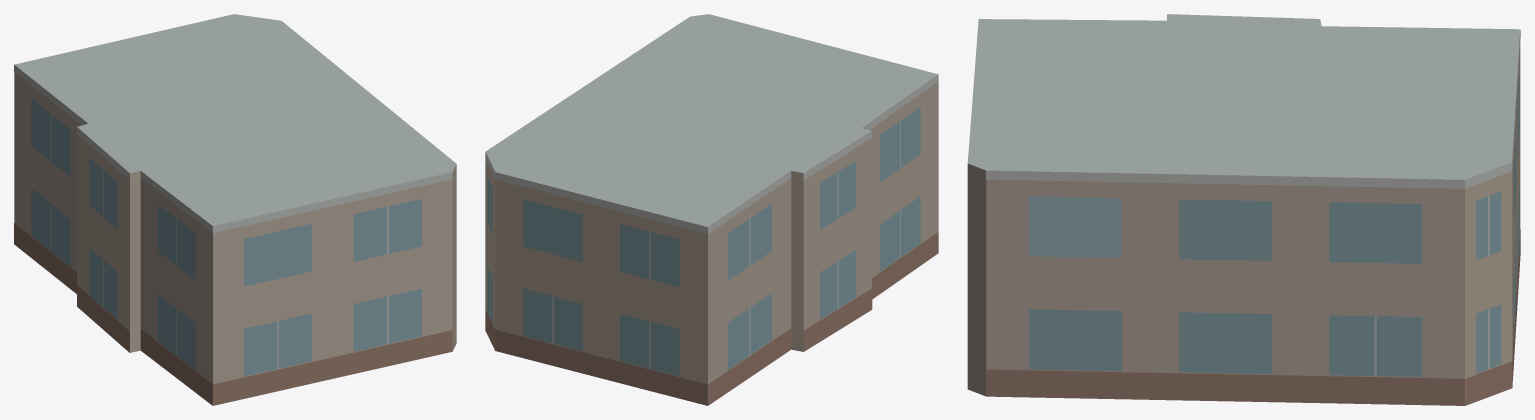
File: survey-upis-32725714.glb
The picture shows the model from 3 angles, left to right: view 1: azimuth 30°, elevation 25°; view 2: azimuth 150°, elevation 25°; view 3: azimuth 270°, elevation 25°; orthographic projection. The views are drawn at different scales.
Visible parts, largest first — view 1: survey-upis-32725714.tmp; view 2: survey-upis-32725714.tmp; view 3: survey-upis-32725714.tmp.
Boxes of the visible parts, x1,y1,x2,y2 form: survey-upis-32725714.tmp: (14, 14, 456, 405); survey-upis-32725714.tmp: (485, 14, 938, 405); survey-upis-32725714.tmp: (967, 14, 1520, 405).
Bounding box in the file's own units: 9.61 × 6.1 × 13.53.
